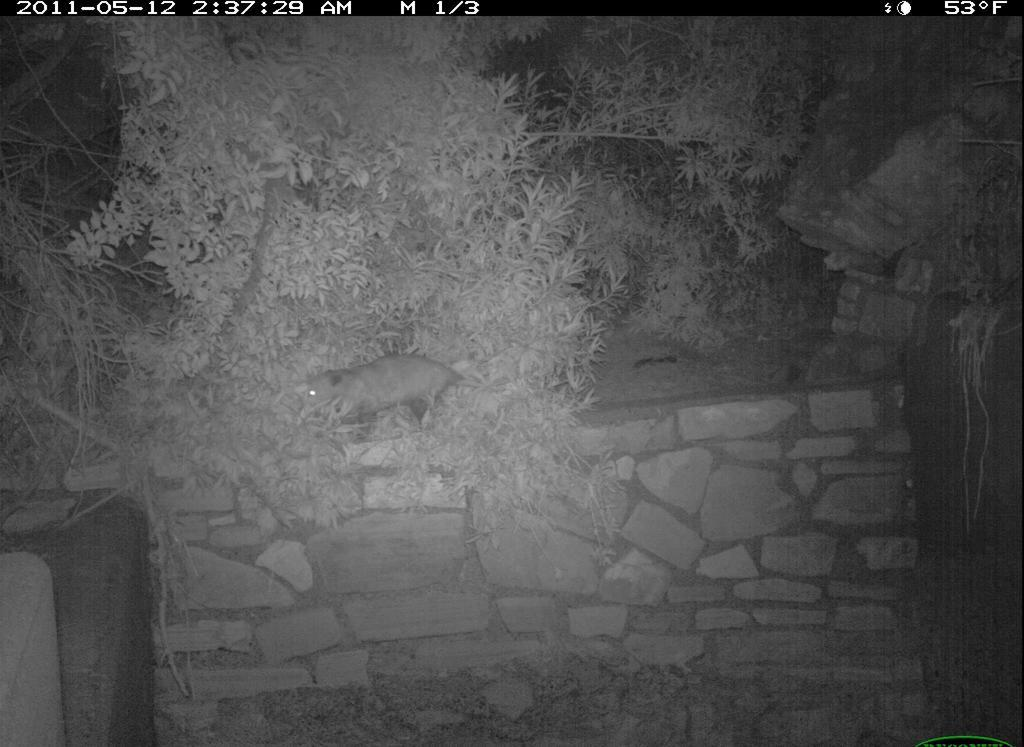opossum: (287, 336, 514, 441)
